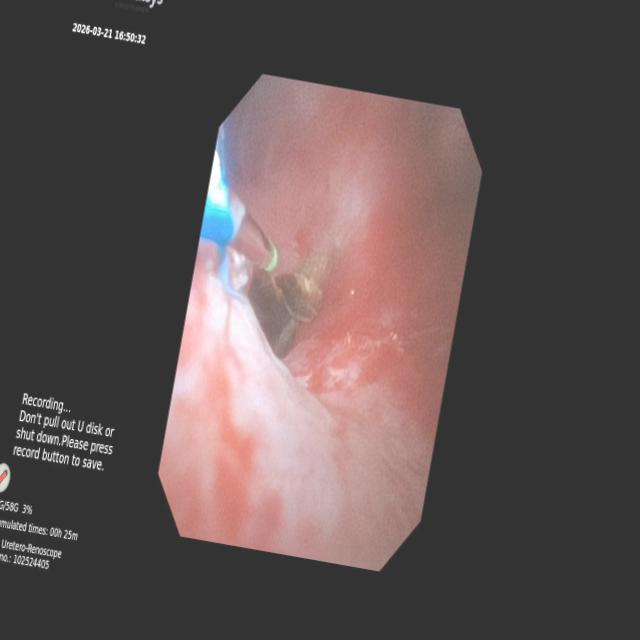laser-fibre: (229, 211, 277, 270)
stone-new: (248, 253, 327, 357)
